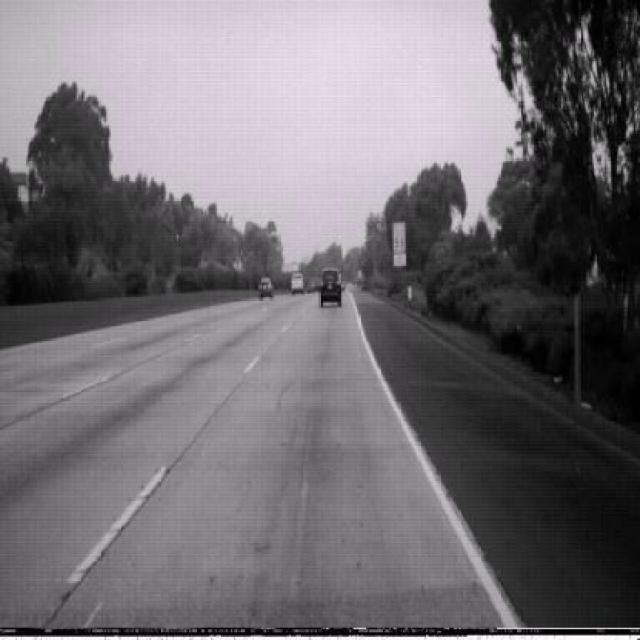truckSpeedLimit55: (392, 222, 406, 253)
